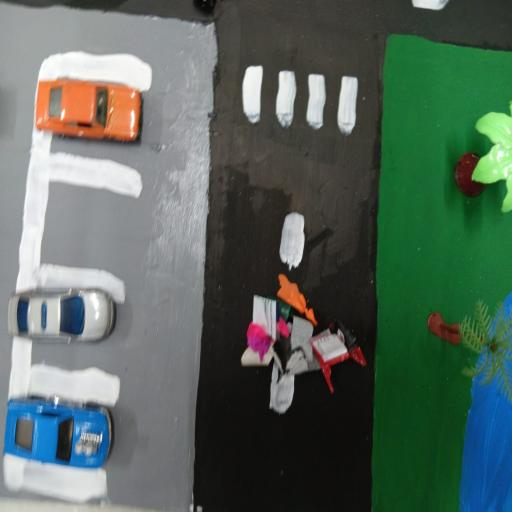trash: (243, 270, 372, 435)
